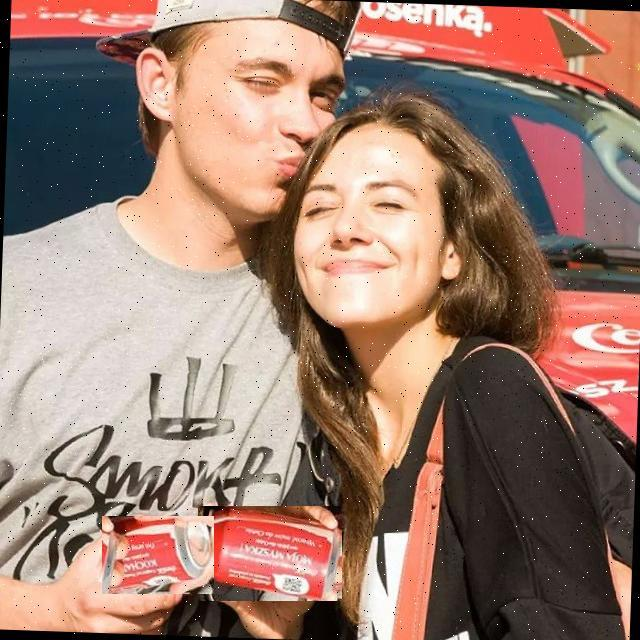coca-cola: (198, 506, 342, 601), (102, 516, 214, 594)
